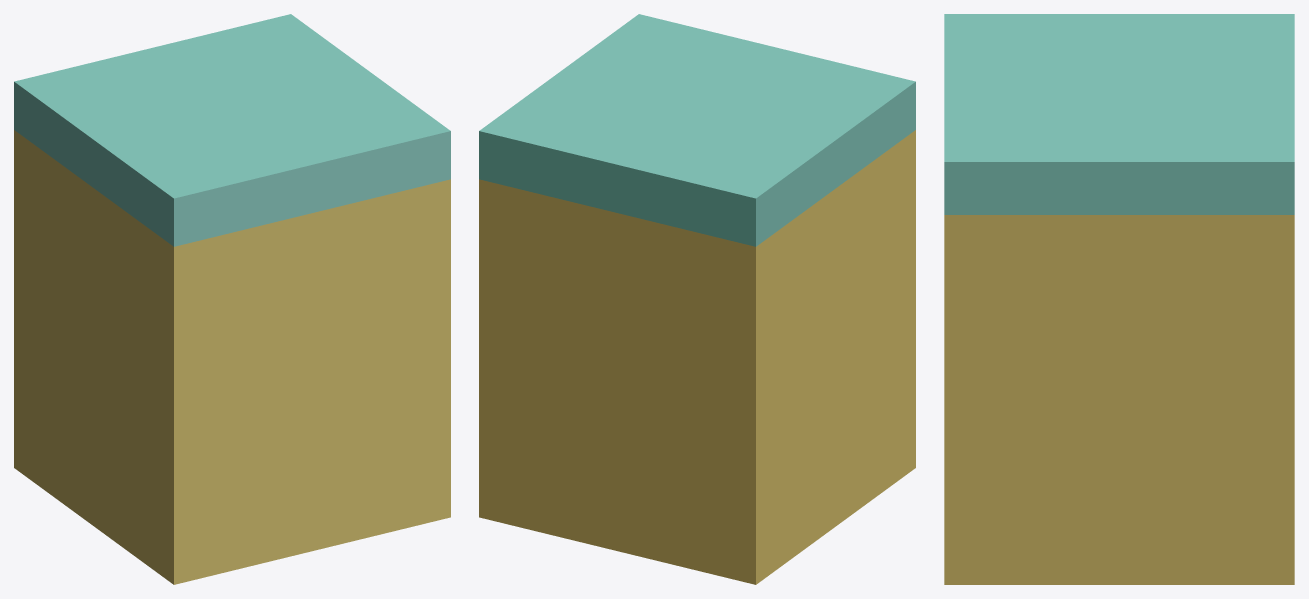
File: squidgame_props_platform2_yellow.fbx
3 renders of one model, left to right at view 1: azimuth 30°, elevation 25°; view 2: azimuth 150°, elevation 25°; view 3: azimuth 270°, elevation 25°, orthographic. The views are drawn at different scales.
Parts seen in each view (by area): view 1: squidgame_props_platform2_yellow; view 2: squidgame_props_platform2_yellow; view 3: squidgame_props_platform2_yellow.
Part boxes in pixels (bbox=[...]): squidgame_props_platform2_yellow: bbox=[14, 14, 450, 584]; squidgame_props_platform2_yellow: bbox=[479, 14, 915, 584]; squidgame_props_platform2_yellow: bbox=[944, 14, 1294, 584].
Bounding box in the file's own units: 1.5 × 2 × 1.5.
